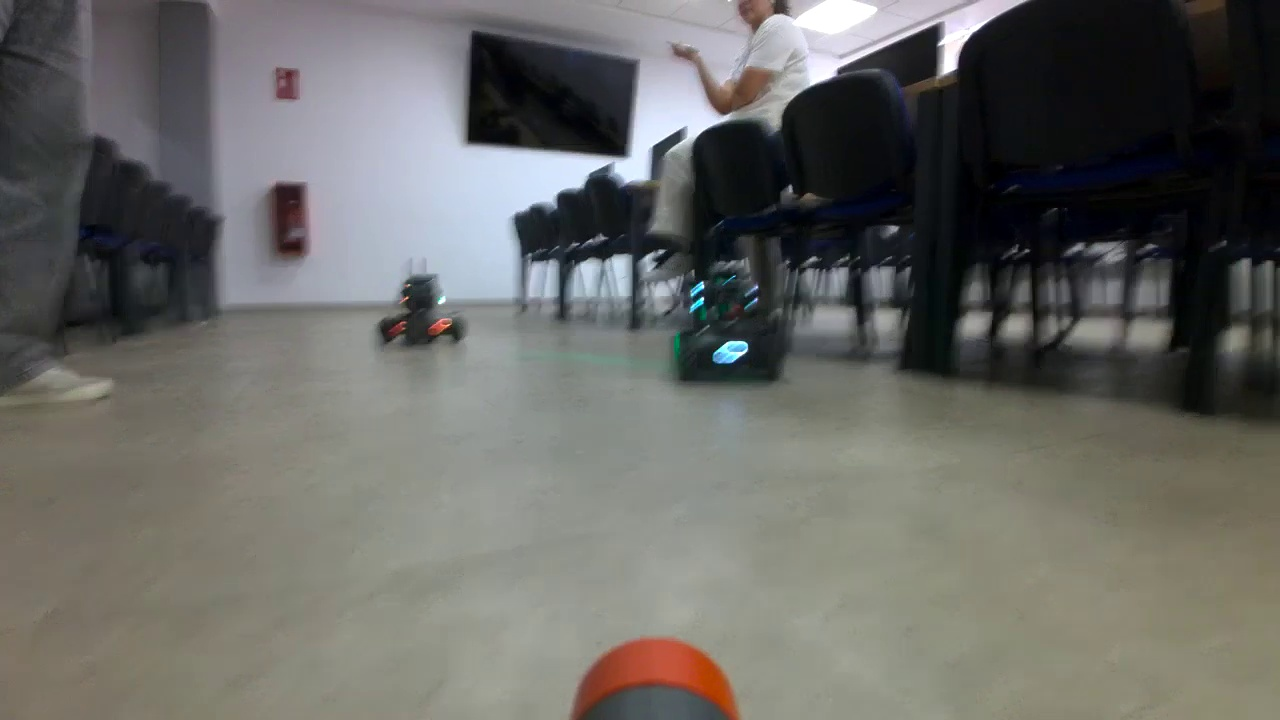robot: (672, 262, 787, 382), (378, 275, 470, 345)
